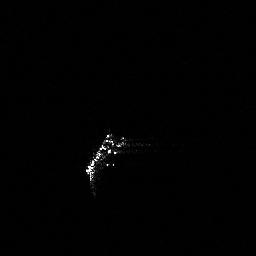ship: (83, 127, 155, 197)
